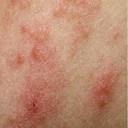Psoriasis: (15, 26, 49, 63), (13, 92, 46, 128), (95, 72, 120, 108)
